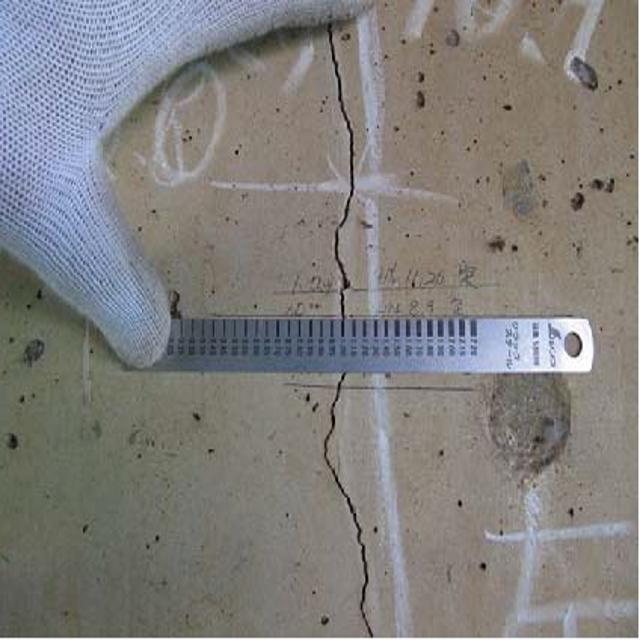crack: (318, 375, 394, 640), (321, 29, 370, 327)
